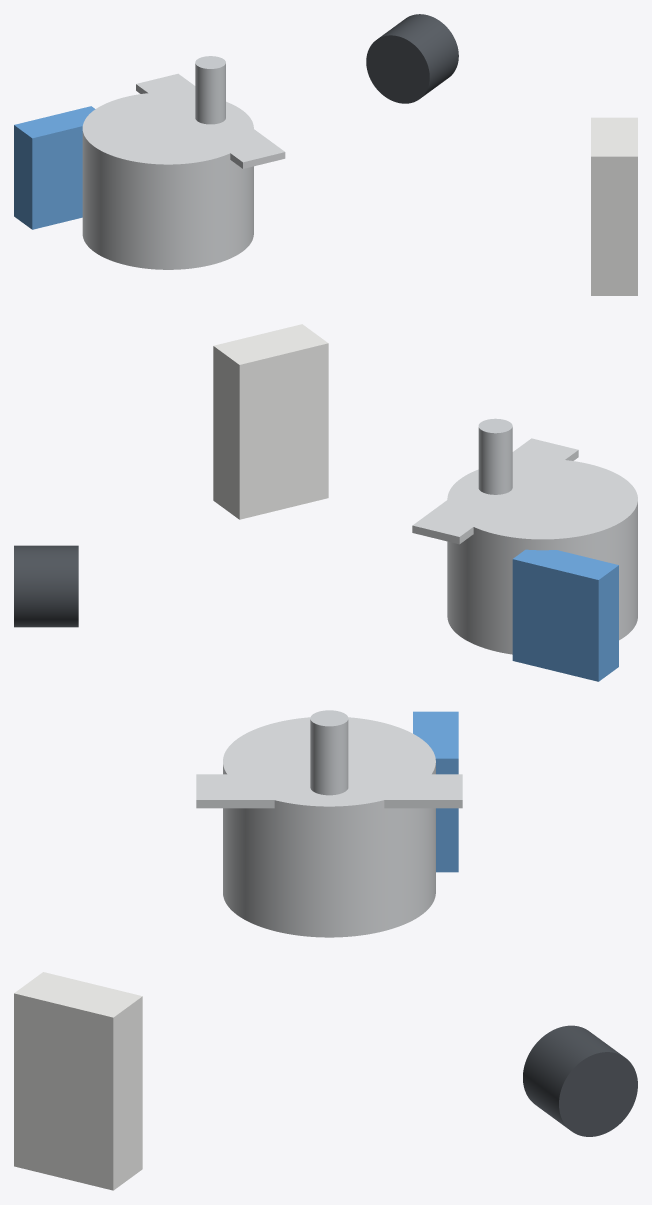
The model's file is fase2_base_componentes.glb.
3 renders of one model, top to bottom at view 1: azimuth 30°, elevation 25°; view 2: azimuth 150°, elevation 25°; view 3: azimuth 270°, elevation 25°, orthographic. The views are drawn at different scales.
Parts seen in each view (by area): view 1: =>[0:1:1:4], =>[0:1:1:12], =>[0:1:1:10], =>[0:1:1:14], =>[0:1:1:6], =>[0:1:1:8]; view 2: =>[0:1:1:4], =>[0:1:1:12], =>[0:1:1:10], =>[0:1:1:14], =>[0:1:1:6], =>[0:1:1:8]; view 3: =>[0:1:1:4], =>[0:1:1:12], =>[0:1:1:14], =>[0:1:1:6], =>[0:1:1:10], =>[0:1:1:8].
Part boxes in pixels (x1=…): =>[0:1:1:4]: x1=82, y1=93, x2=253, y2=269; =>[0:1:1:12]: x1=591, y1=117, x2=637, y2=295; =>[0:1:1:10]: x1=14, y1=106, x2=95, y2=229; =>[0:1:1:14]: x1=366, y1=14, x2=458, y2=103; =>[0:1:1:6]: x1=136, y1=73, x2=285, y2=168; =>[0:1:1:8]: x1=195, y1=56, x2=225, y2=124; =>[0:1:1:4]: x1=447, y1=460, x2=637, y2=654; =>[0:1:1:12]: x1=213, y1=324, x2=328, y2=519; =>[0:1:1:10]: x1=512, y1=549, x2=618, y2=681; =>[0:1:1:14]: x1=14, y1=545, x2=78, y2=627; =>[0:1:1:6]: x1=412, y1=438, x2=578, y2=544; =>[0:1:1:8]: x1=478, y1=418, x2=512, y2=494; =>[0:1:1:4]: x1=223, y1=717, x2=435, y2=937; =>[0:1:1:12]: x1=14, y1=972, x2=142, y2=1190; =>[0:1:1:14]: x1=523, y1=1025, x2=637, y2=1136; =>[0:1:1:6]: x1=196, y1=774, x2=462, y2=808; =>[0:1:1:10]: x1=413, y1=711, x2=458, y2=872; =>[0:1:1:8]: x1=310, y1=710, x2=348, y2=795.
Size of the model in its own units: 0.0916 by 0.0385 by 0.082.
